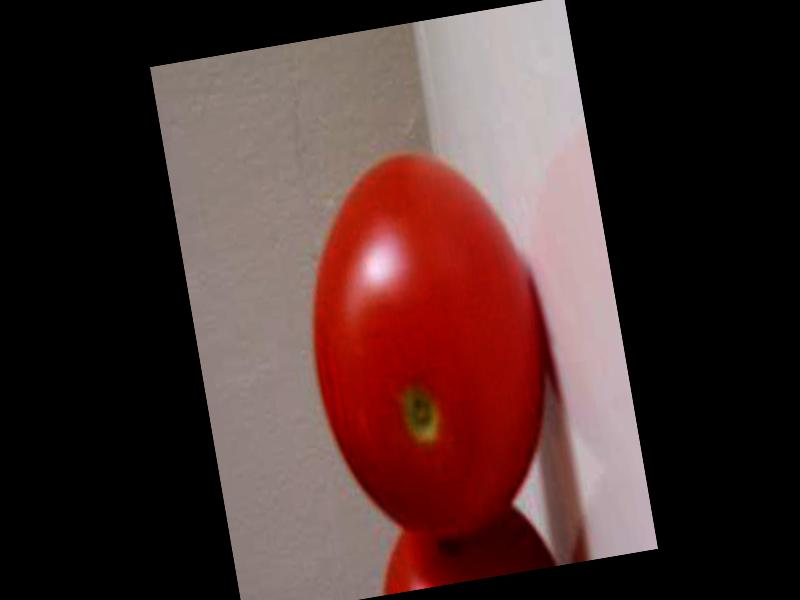Tomato: (284, 137, 570, 551)
